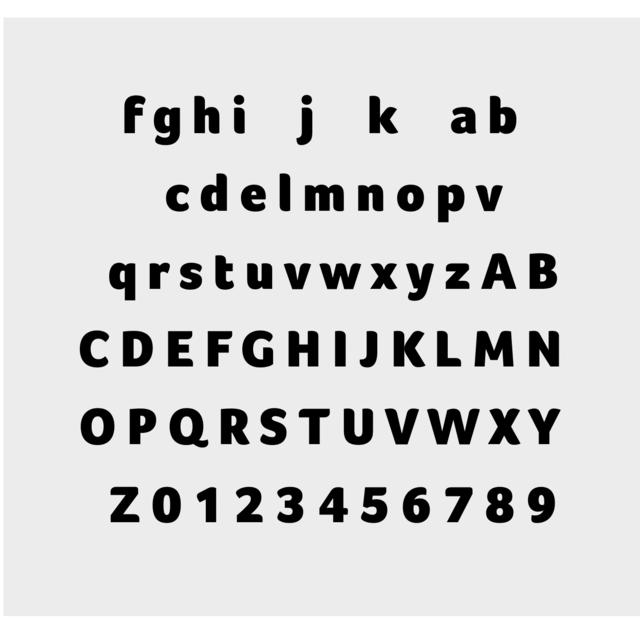alphabet: (152, 484, 186, 535), (166, 407, 208, 448), (473, 330, 515, 370), (80, 407, 120, 447), (380, 407, 421, 446), (478, 253, 518, 292), (525, 407, 563, 447), (239, 329, 274, 370), (341, 407, 376, 448), (524, 330, 559, 370), (80, 330, 113, 372), (122, 331, 158, 369), (298, 406, 332, 446), (402, 485, 432, 530), (404, 262, 436, 304), (526, 485, 558, 526), (487, 93, 518, 135), (436, 182, 468, 222), (106, 261, 137, 302), (199, 171, 229, 212), (126, 407, 158, 445), (220, 408, 251, 447), (443, 485, 474, 524), (192, 94, 222, 134), (235, 484, 265, 524), (302, 182, 343, 211), (316, 486, 347, 524), (291, 331, 321, 368), (204, 330, 233, 368), (122, 92, 148, 134), (360, 485, 387, 525), (354, 330, 380, 370), (425, 407, 451, 446), (165, 331, 194, 364), (396, 182, 427, 212), (238, 182, 267, 212), (475, 182, 504, 212), (450, 105, 479, 135), (282, 262, 313, 290), (355, 182, 384, 211), (244, 262, 272, 292), (370, 263, 399, 291), (164, 182, 190, 212), (444, 263, 471, 291), (177, 262, 202, 292), (232, 92, 248, 135), (277, 171, 293, 212), (149, 263, 172, 291), (325, 182, 346, 211), (334, 330, 349, 370), (285, 329, 299, 367)
